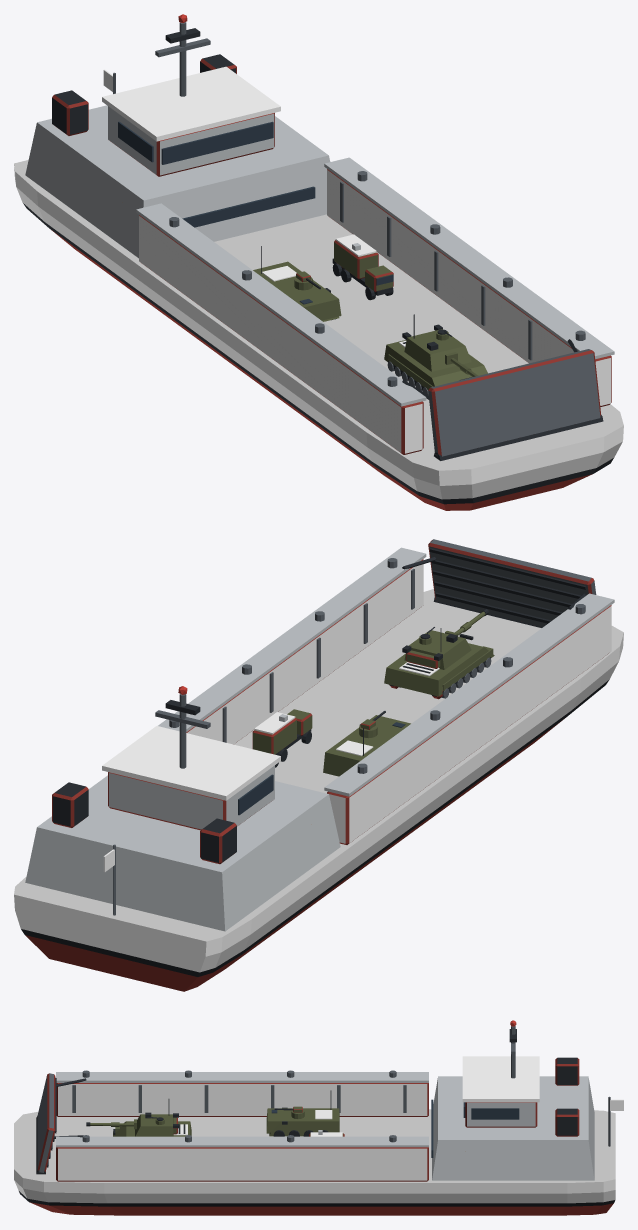
Rendered from transport.glb.
3 views of the same model, one above another, from view 1: azimuth 30°, elevation 25°; view 2: azimuth 150°, elevation 25°; view 3: azimuth 270°, elevation 25° (orthographic). The views are drawn at different scales.
Parts seen in each view (by area): view 1: Transport; view 2: Transport; view 3: Transport.
Part boxes in pixels (x1,y1,x2,y2): Transport: (14,14,623,510); Transport: (14,539,623,991); Transport: (14,1020,623,1215).
Bounding box in the file's own units: 0.29 × 0.311 × 1.01.
